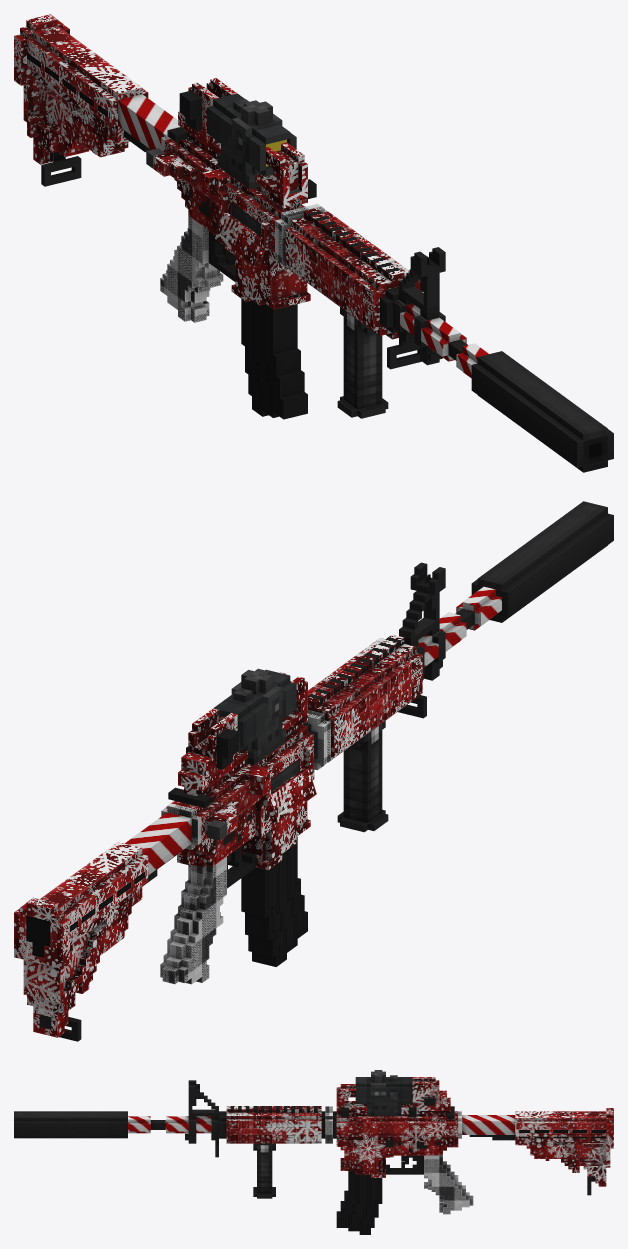
The picture shows the model from 3 angles, top to bottom: view 1: azimuth 30°, elevation 25°; view 2: azimuth 150°, elevation 25°; view 3: azimuth 270°, elevation 25°; orthographic projection. The views are drawn at different scales.
Visible parts, largest first — view 1: M4A1, SILENCER_6X6, M41A_CLIP, M4A1_SCOPE, GRIP1, SCOPE_TASCO, SCOPE_HOLOSUN; view 2: M4A1, SILENCER_6X6, M4A1_SCOPE, M41A_CLIP, GRIP1, SCOPE_TASCO, SCOPE_HOLOSUN; view 3: M4A1, SILENCER_6X6, M4A1_SCOPE, M41A_CLIP, SCOPE_TASCO, GRIP1, SCOPE_HOLOSUN.
Boxes of the visible parts, x1,y1,x2,y2 form: M4A1: [14, 14, 488, 378]; SILENCER_6X6: [471, 351, 613, 472]; M41A_CLIP: [241, 299, 307, 419]; M4A1_SCOPE: [178, 78, 445, 307]; GRIP1: [337, 307, 388, 418]; SCOPE_TASCO: [207, 93, 296, 189]; SCOPE_HOLOSUN: [217, 113, 282, 186]; M4A1: [14, 586, 501, 1041]; SILENCER_6X6: [471, 501, 613, 622]; M4A1_SCOPE: [178, 562, 445, 791]; M41A_CLIP: [241, 836, 307, 966]; GRIP1: [337, 721, 388, 832]; SCOPE_TASCO: [213, 668, 296, 765]; SCOPE_HOLOSUN: [231, 682, 282, 765]; M4A1: [128, 1106, 613, 1214]; SILENCER_6X6: [14, 1111, 127, 1138]; M4A1_SCOPE: [188, 1077, 450, 1117]; M41A_CLIP: [336, 1171, 382, 1234]; SCOPE_TASCO: [355, 1070, 412, 1115]; GRIP1: [253, 1143, 275, 1198]; SCOPE_HOLOSUN: [371, 1083, 400, 1115].
Bounding box in the file's own units: 0.0984 × 0.4528 × 1.56.
Materials: 9 (9 with a texture image).
